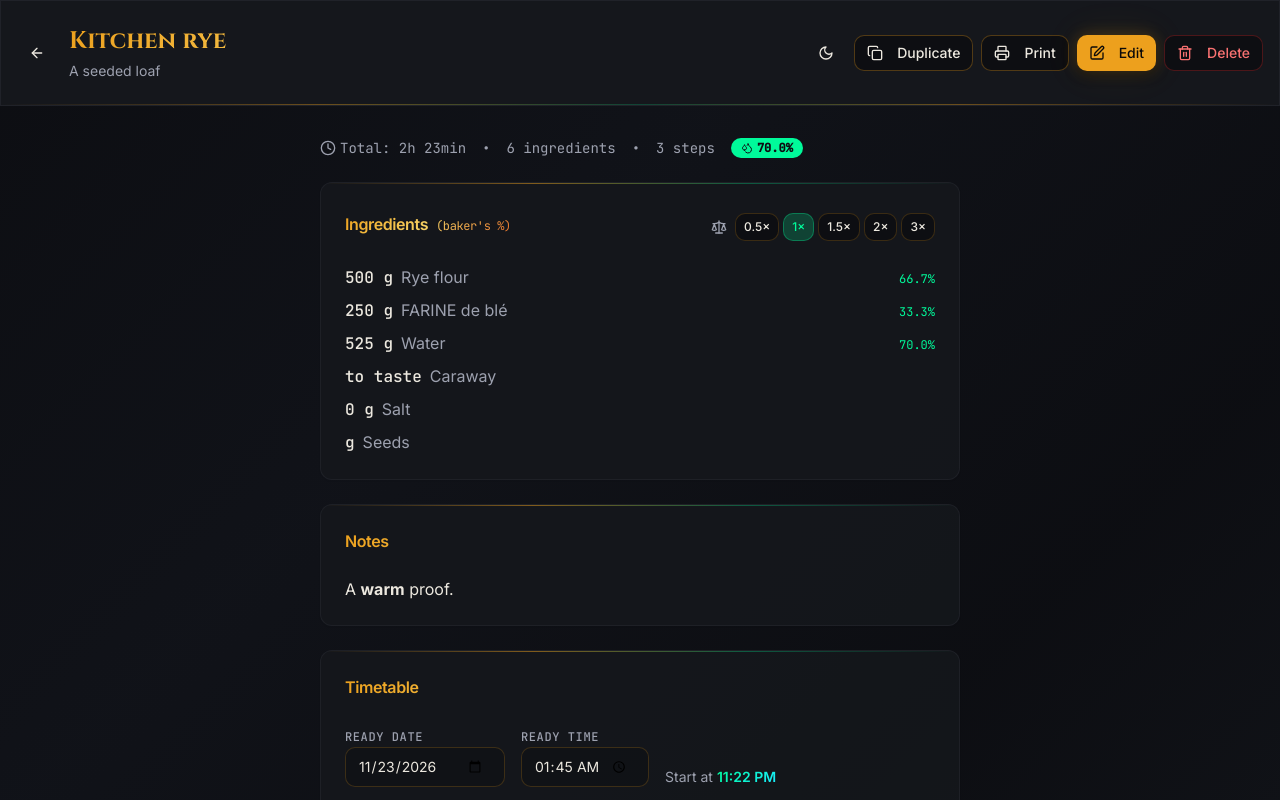
Test: shows total duration and scales quantities while preserving baker's percentages
Expected: the text "A seeded loaf" is shown, [69,62,160,79]
Expected: the text "Total: 2h 23min" is shown, [340,138,466,158]
Step 1. Click the button "1.5×" → (839, 227), box [818,213,860,241]
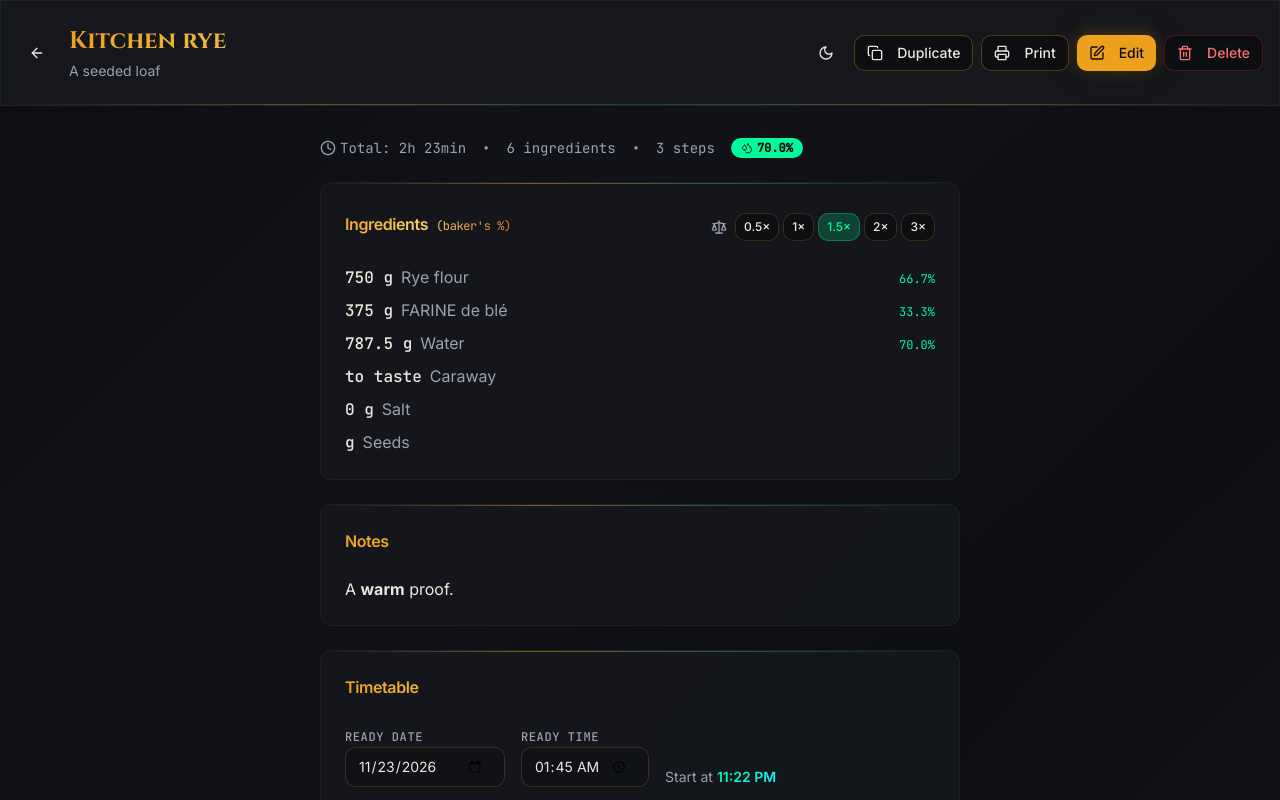
Expected: the text "750 g" is shown, [345,266,393,290]
Expected: the text "375 g" is shown, [345,299,393,323]
Expected: the text "787.5 g" is shown, [345,332,412,356]
Step 2. Click the button "1×" → (799, 227), box [783,213,814,241]
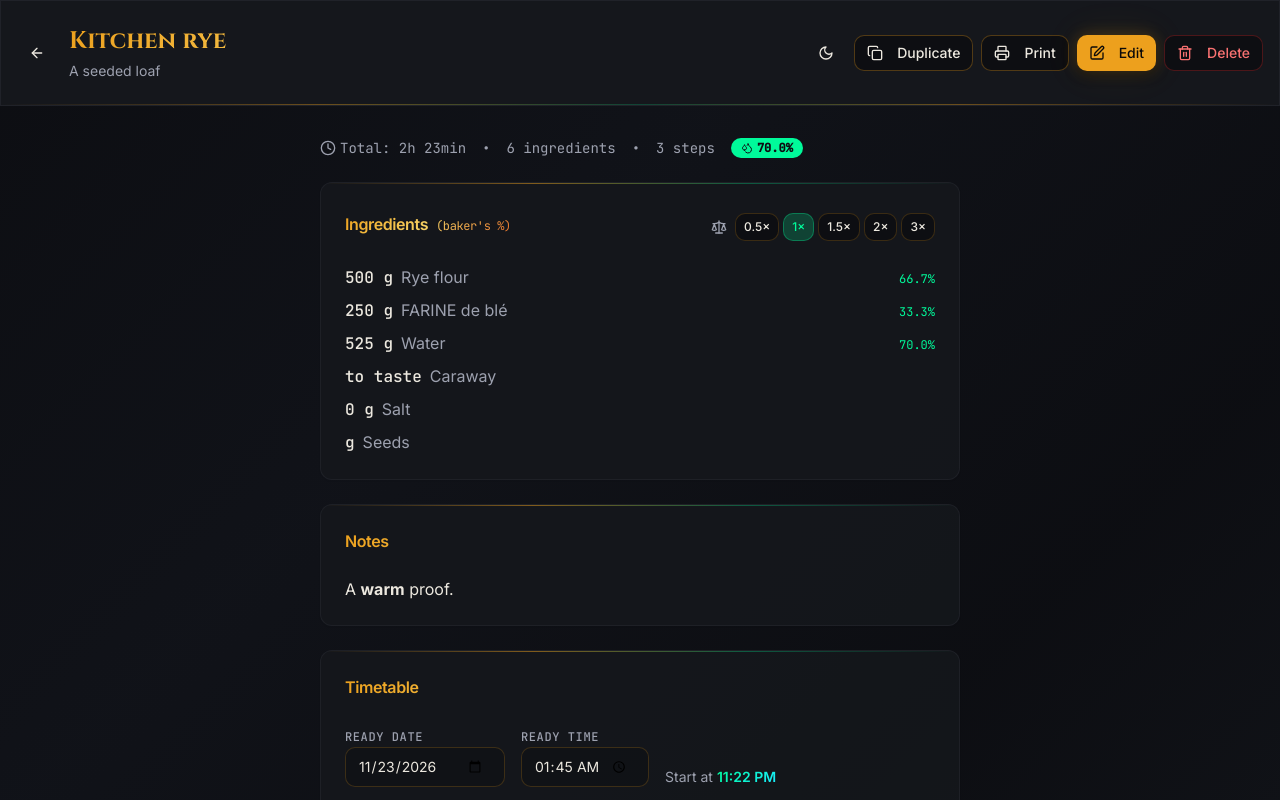
Expected: the text "525 g" is shown, [345,332,393,356]
